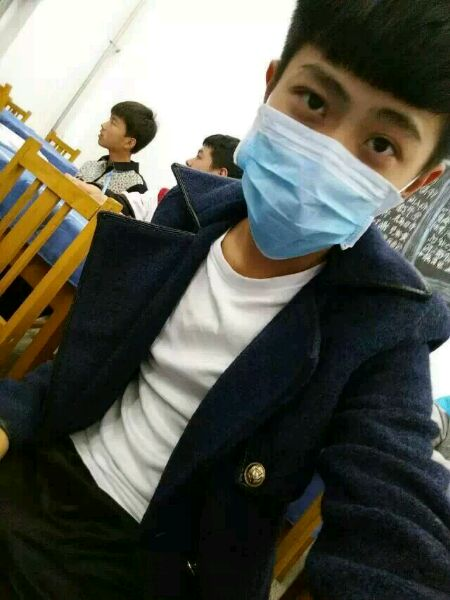face: (98, 109, 126, 147), (188, 142, 213, 183)
face_mask: (251, 28, 433, 252)
